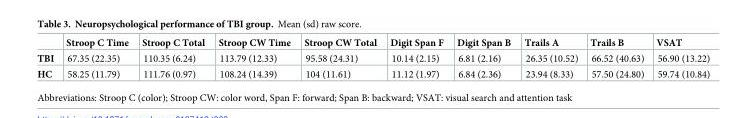table: (36, 37, 709, 79)
table column: (210, 37, 296, 79), (296, 37, 382, 79), (134, 37, 210, 79), (59, 37, 134, 79), (382, 37, 449, 79), (449, 37, 516, 79), (516, 37, 583, 79), (583, 37, 649, 79), (649, 37, 709, 79), (36, 37, 59, 79)
table column header: (36, 37, 709, 50)
table row: (36, 50, 709, 66), (36, 37, 709, 50), (36, 66, 709, 79)
